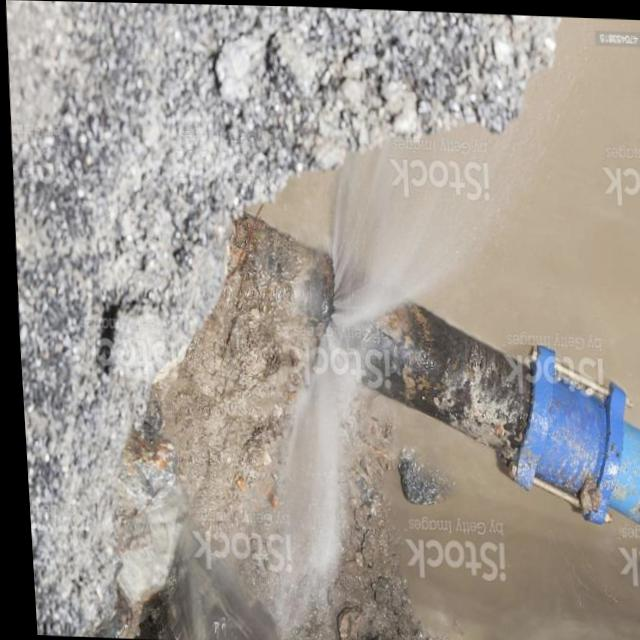leak: (276, 144, 459, 626)
